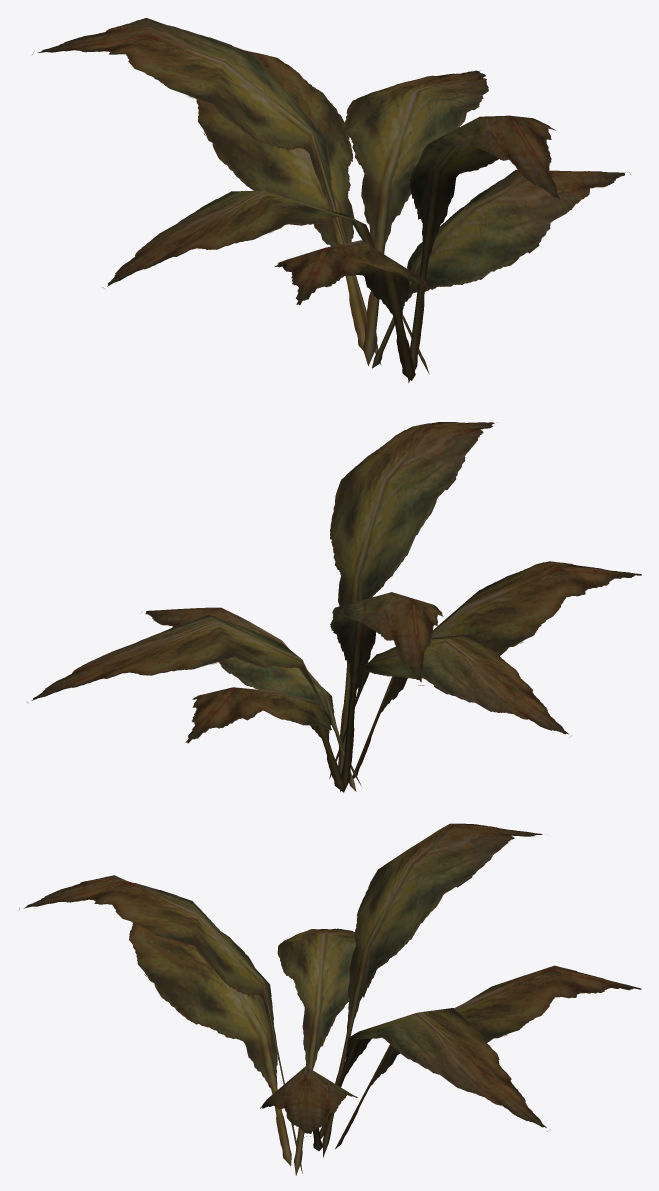
File: yasl_cao_yeloow.fbx
3 views of the same model, one above another, from view 1: azimuth 30°, elevation 25°; view 2: azimuth 150°, elevation 25°; view 3: azimuth 270°, elevation 25° (orthographic). The views are drawn at different scales.
Visible parts, largest first — view 1: yasl_cao_yeloow; view 2: yasl_cao_yeloow; view 3: yasl_cao_yeloow.
Part boxes in pixels (box(x1,y1,x2,y2)): yasl_cao_yeloow: box(32, 18, 630, 382); yasl_cao_yeloow: box(26, 422, 641, 792); yasl_cao_yeloow: box(19, 823, 641, 1175).
Size of the model in its own units: 638 by 395 by 769.
